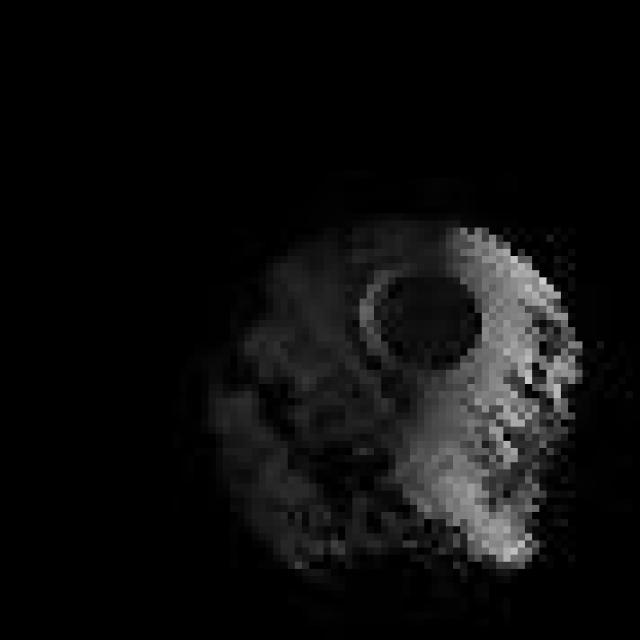Death Star: (194, 199, 590, 590)
